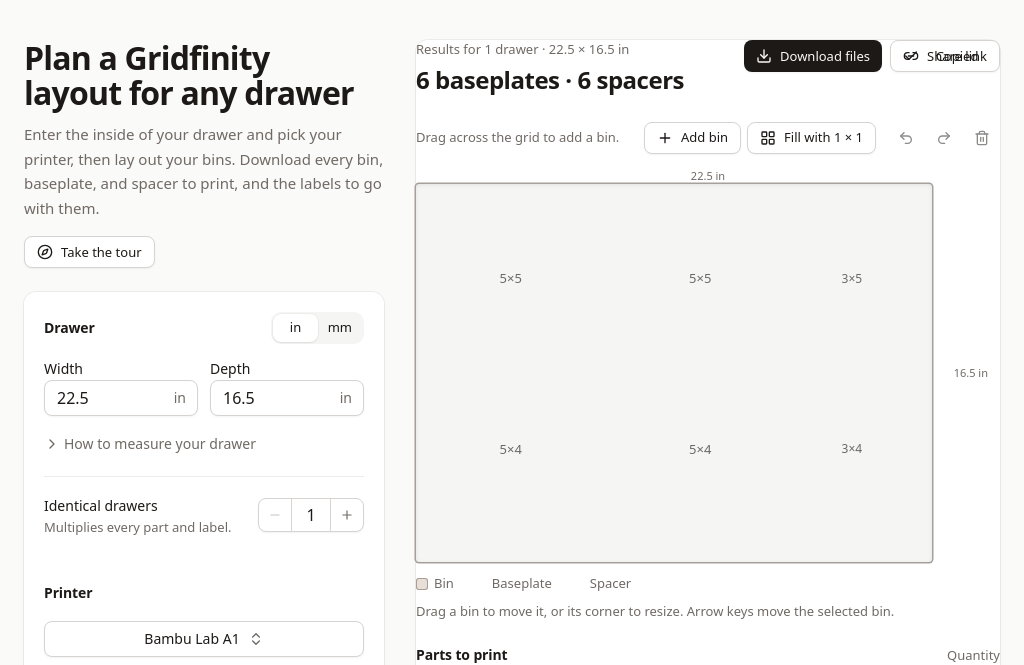
Test: GridfinityCalculator › should handle invalid drawer dimensions gracefully
Replace the text in the field labelled "Width" with "0" at (121, 398), box [44,380,198,416]
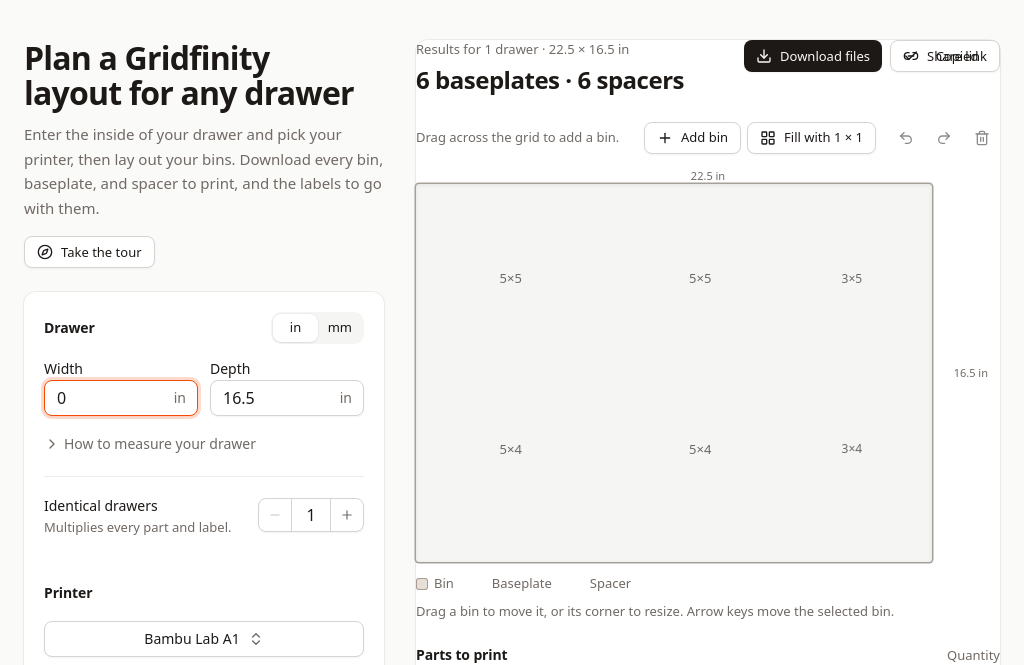
Press Tab
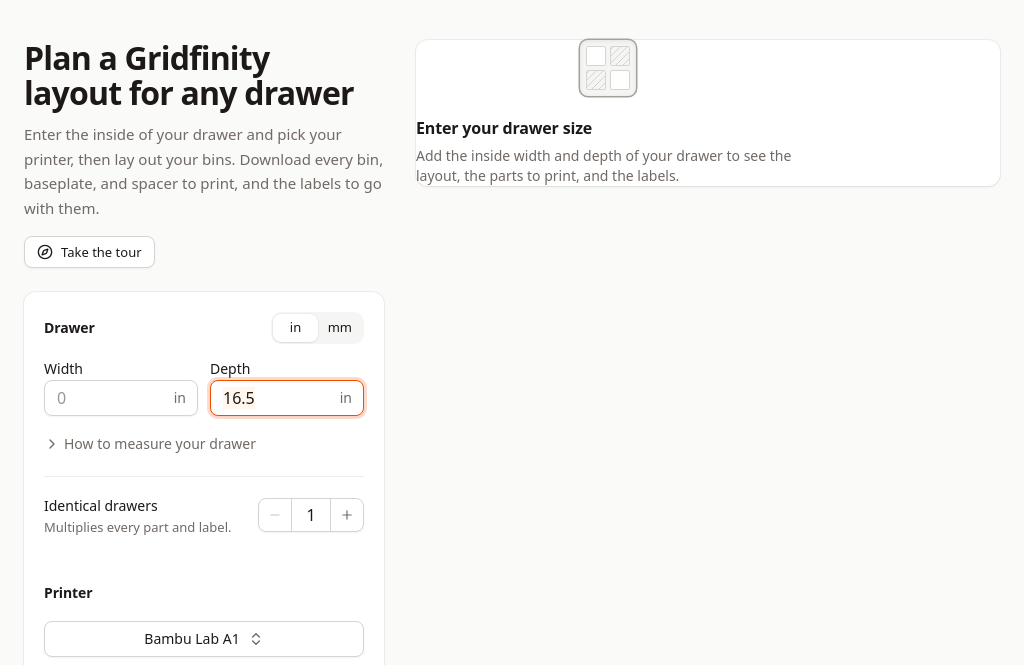
Expected: the heading "Drawer" is shown, [44,318,95,337]
Expected: the heading "Enter your drawer size" is shown, [416,117,592,139]
